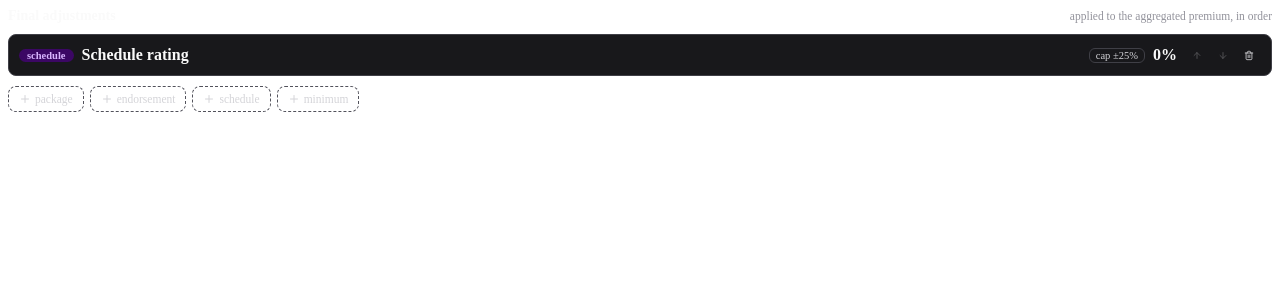
FinalAdjustmentsEditor › offers NO Model segment — the source is retired (Detachment Brief 1 S1)
Click the button "Schedule rating": (135, 54) [82,46,1081,64]
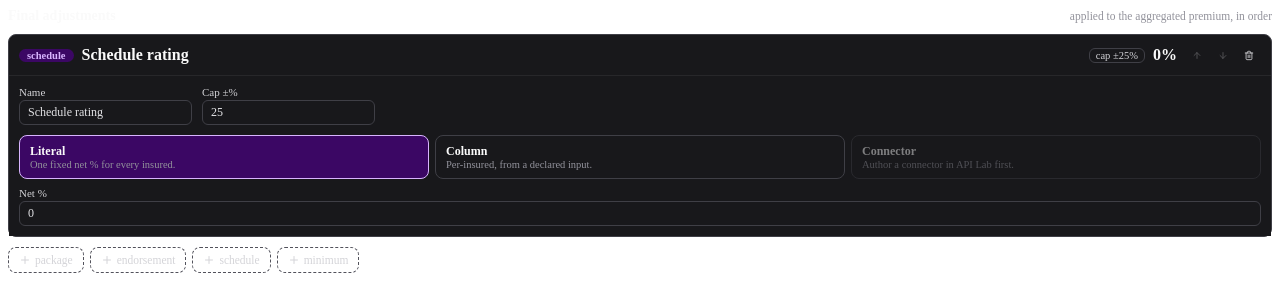
Now the button "Column Per-insured, from a declared input." is shown, box [435,135,845,179]
